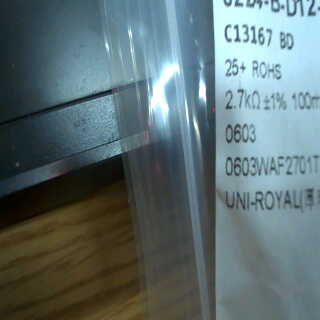2.7kR: (220, 87, 267, 117)
